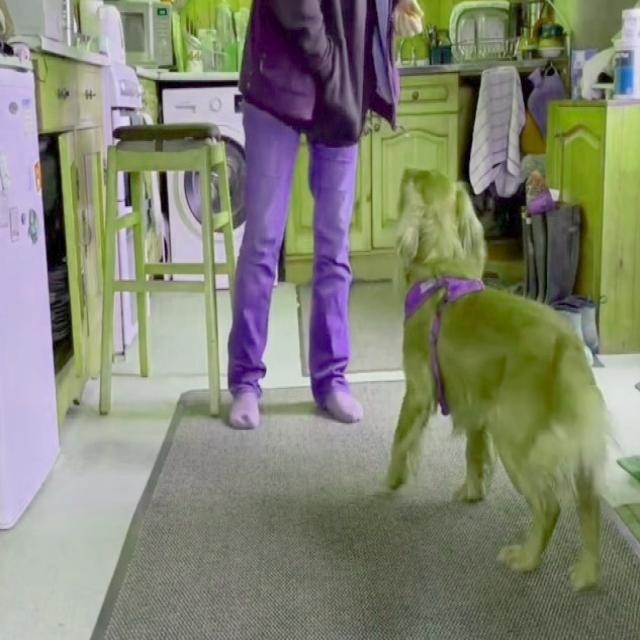Unleashed_Dog: (314, 168, 615, 595)
